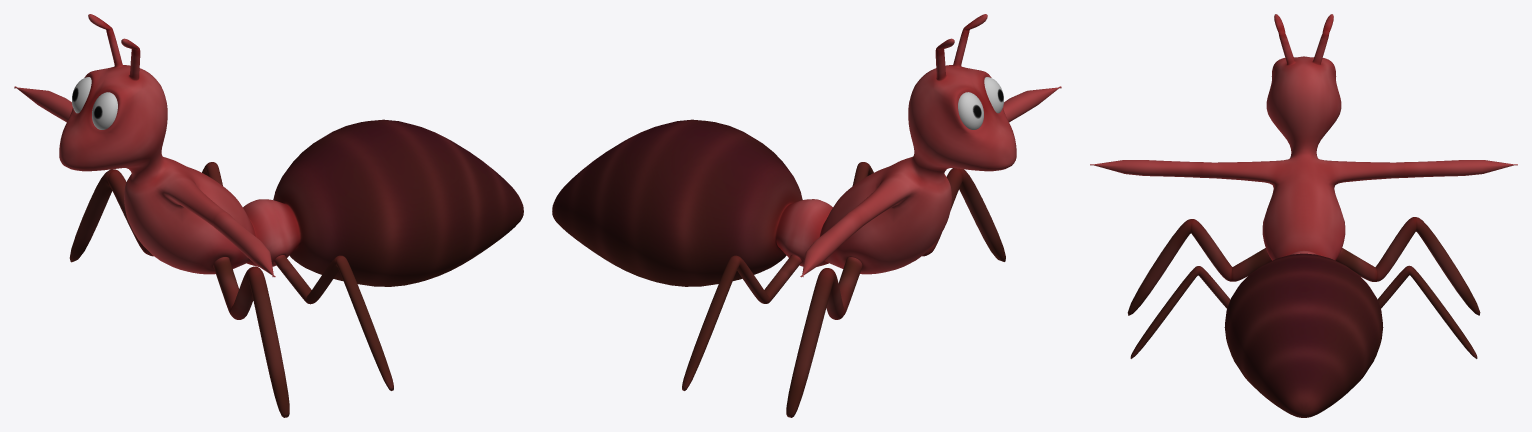
Rendered from antHandsSmall.fbx.
3 renders of one model, left to right at view 1: azimuth 30°, elevation 25°; view 2: azimuth 150°, elevation 25°; view 3: azimuth 270°, elevation 25°, orthographic. The views are drawn at different scales.
Parts seen in each view (by area): view 1: Cube; view 2: Cube; view 3: Cube.
Part boxes in pixels (<box>): Cube: <box>14,14,523,417</box>; Cube: <box>552,14,1061,417</box>; Cube: <box>1090,14,1517,417</box>.
Bounding box in the file's own units: 571 × 393 × 560.
